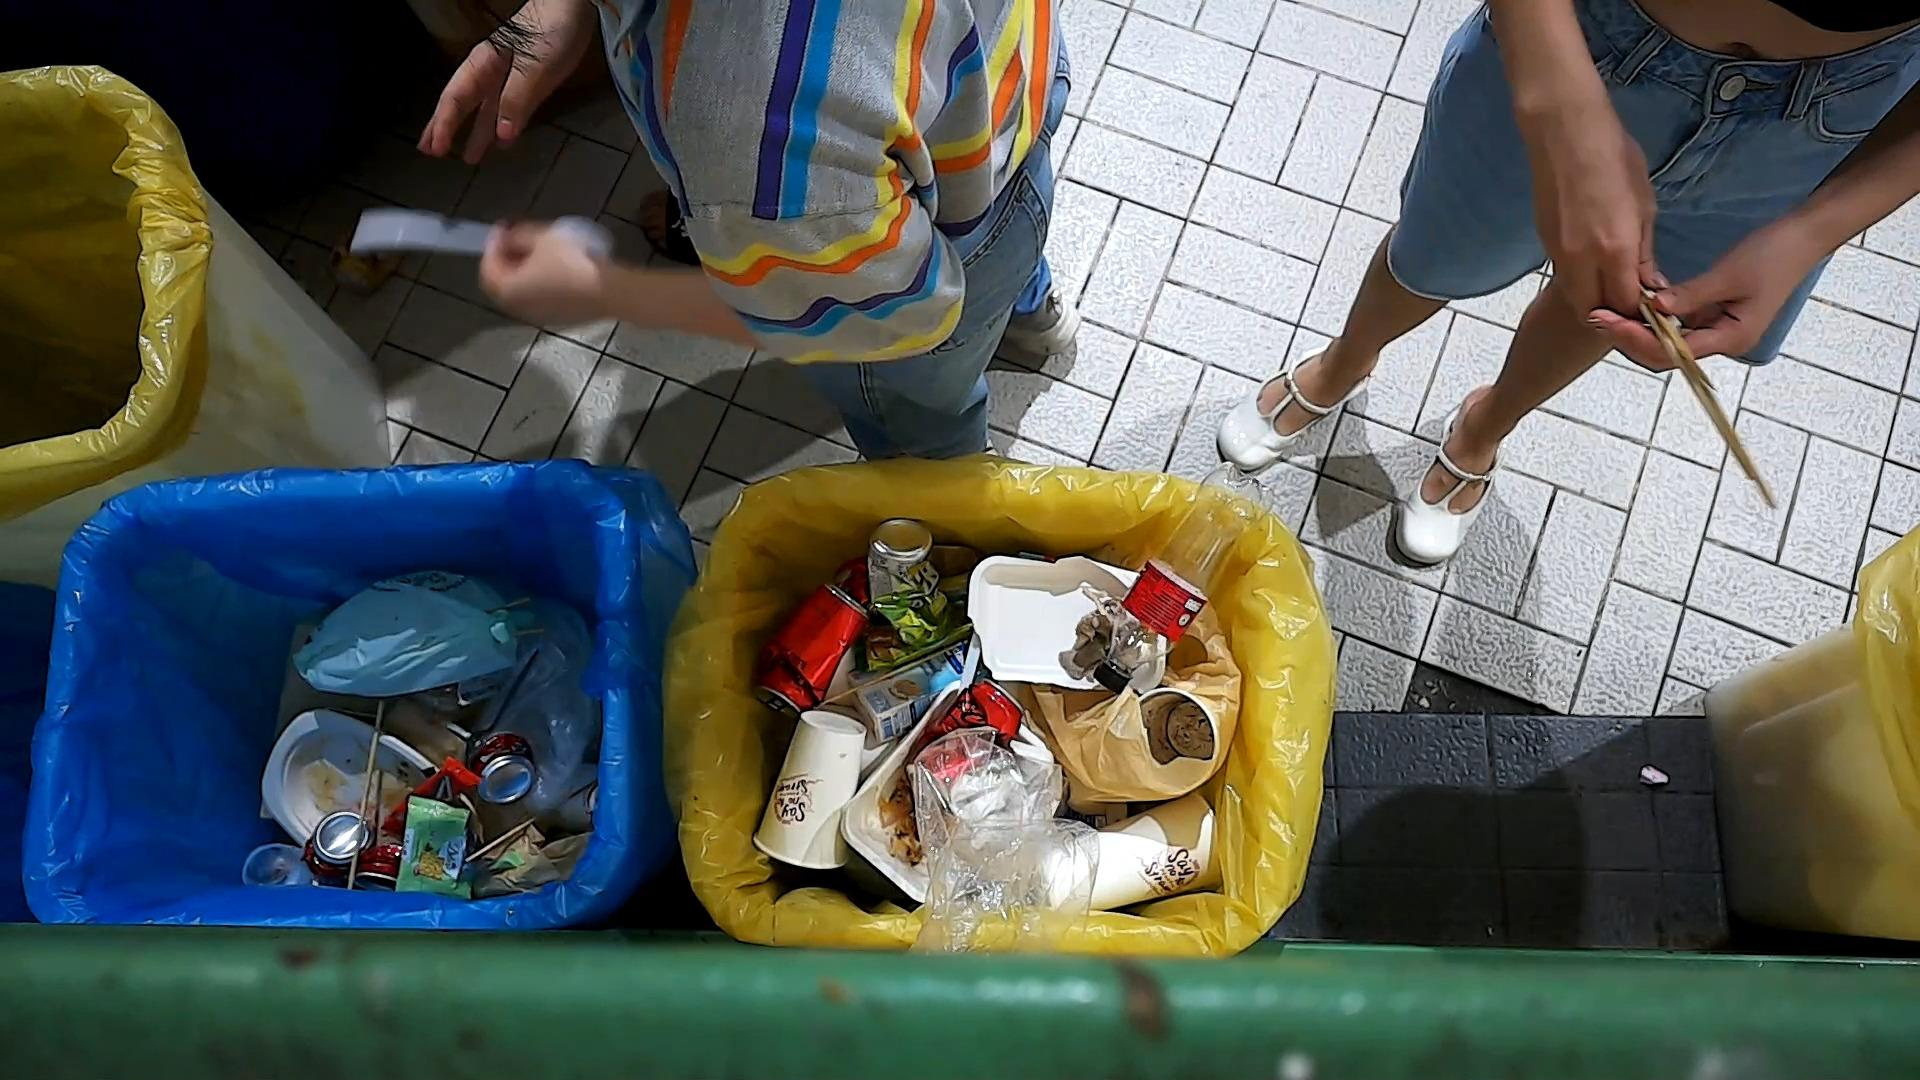can: (749, 575, 874, 721), (899, 675, 1026, 795), (864, 514, 957, 655), (301, 806, 378, 884), (469, 728, 539, 807)
dirty food container: (965, 549, 1174, 695)
filled plastic bag: (1033, 595, 1250, 812), (285, 562, 545, 702)
food container: (258, 704, 436, 852), (235, 840, 307, 890)
milk carton: (841, 632, 994, 745)
paper bag: (479, 803, 595, 902)
plastic bag: (903, 721, 1108, 959), (472, 576, 601, 820)
plastic bottle: (1085, 455, 1278, 700)
plastic cutlery: (335, 200, 624, 262), (463, 642, 546, 770)
snack packaging: (392, 791, 525, 903), (378, 752, 492, 839)
sticks: (1627, 272, 1785, 517), (812, 636, 973, 715), (463, 778, 599, 865), (343, 695, 389, 891)
zero waste cup: (1034, 787, 1224, 913), (749, 708, 868, 873)
